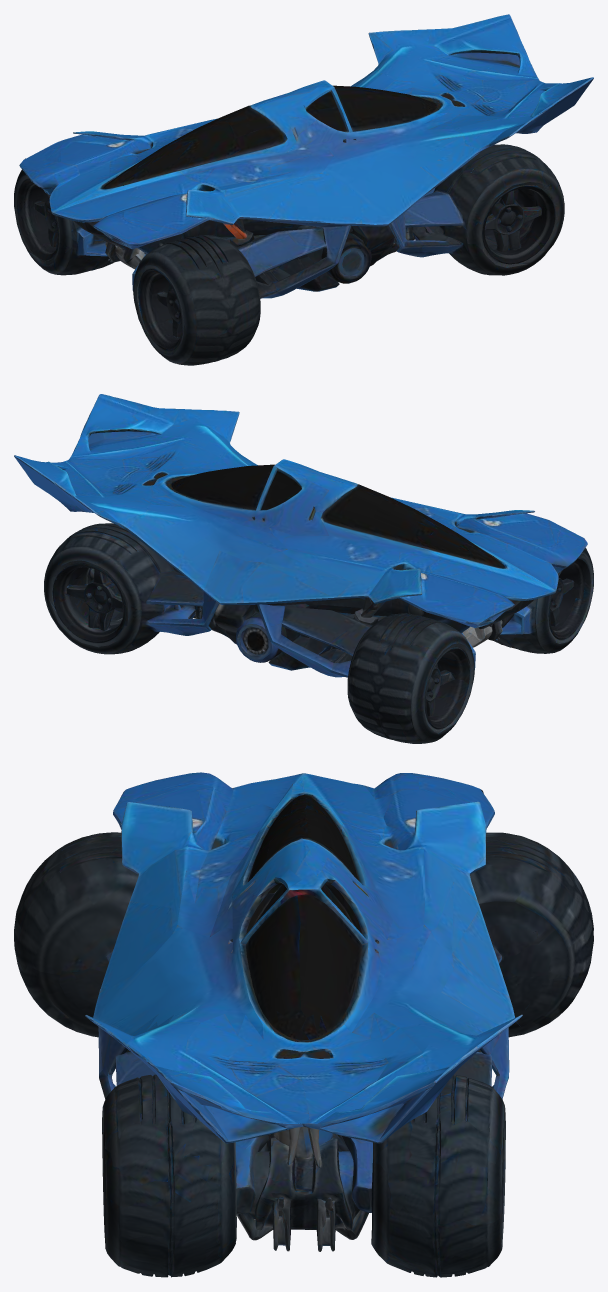
The model's file is rivalCar.ccd67629.glb.
3 renders of one model, top to bottom at view 1: azimuth 30°, elevation 25°; view 2: azimuth 150°, elevation 25°; view 3: azimuth 270°, elevation 25°, orthographic. The views are drawn at different scales.
Parts seen in each view (by area): view 1: chassis_body, wheel_fr, wheel_rr; view 2: chassis_body, wheel_fl, wheel_rl; view 3: chassis_body, wheel_rr, wheel_rl.
Part boxes in pixels (left/top/right/bottom): chassis_body: left=14, top=14, right=593, bottom=365; wheel_fr: left=419, top=224, right=489, bottom=273; wheel_rr: left=255, top=270, right=293, bottom=298; chassis_body: left=14, top=394, right=593, bottom=743; wheel_fl: left=115, top=602, right=189, bottom=651; wheel_rl: left=305, top=648, right=352, bottom=677; chassis_body: left=14, top=772, right=593, bottom=1277; wheel_rr: left=40, top=954, right=108, bottom=1029; wheel_rl: left=499, top=950, right=568, bottom=1029.
Bounding box in the file's own units: 1.9 × 0.6682 × 1.23.
1 material, 1 textured.
